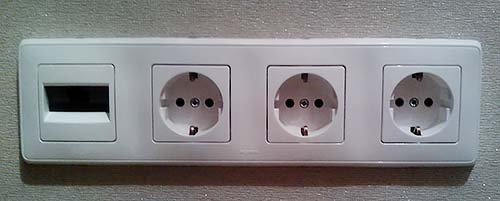raccoon: (271, 70, 339, 139), (388, 69, 455, 139), (158, 71, 224, 137)
